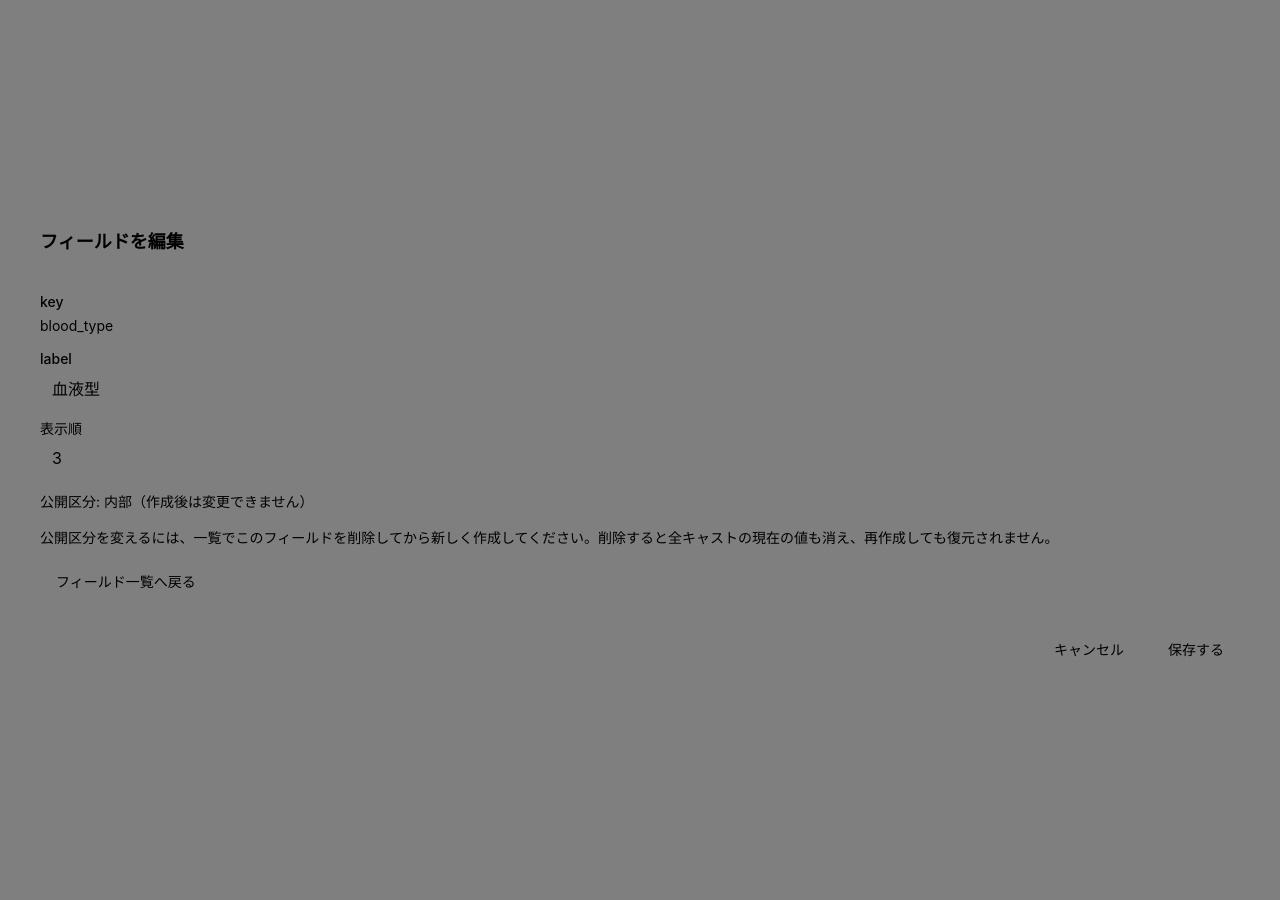
Scenario: カスタムフィールド定義の編集モーダル › 表示順が空なら文言を出し、display_order を欠いたまま送らないこと
Clear the number field labelled "表示順": point(640, 458) [40,440,1240,476]
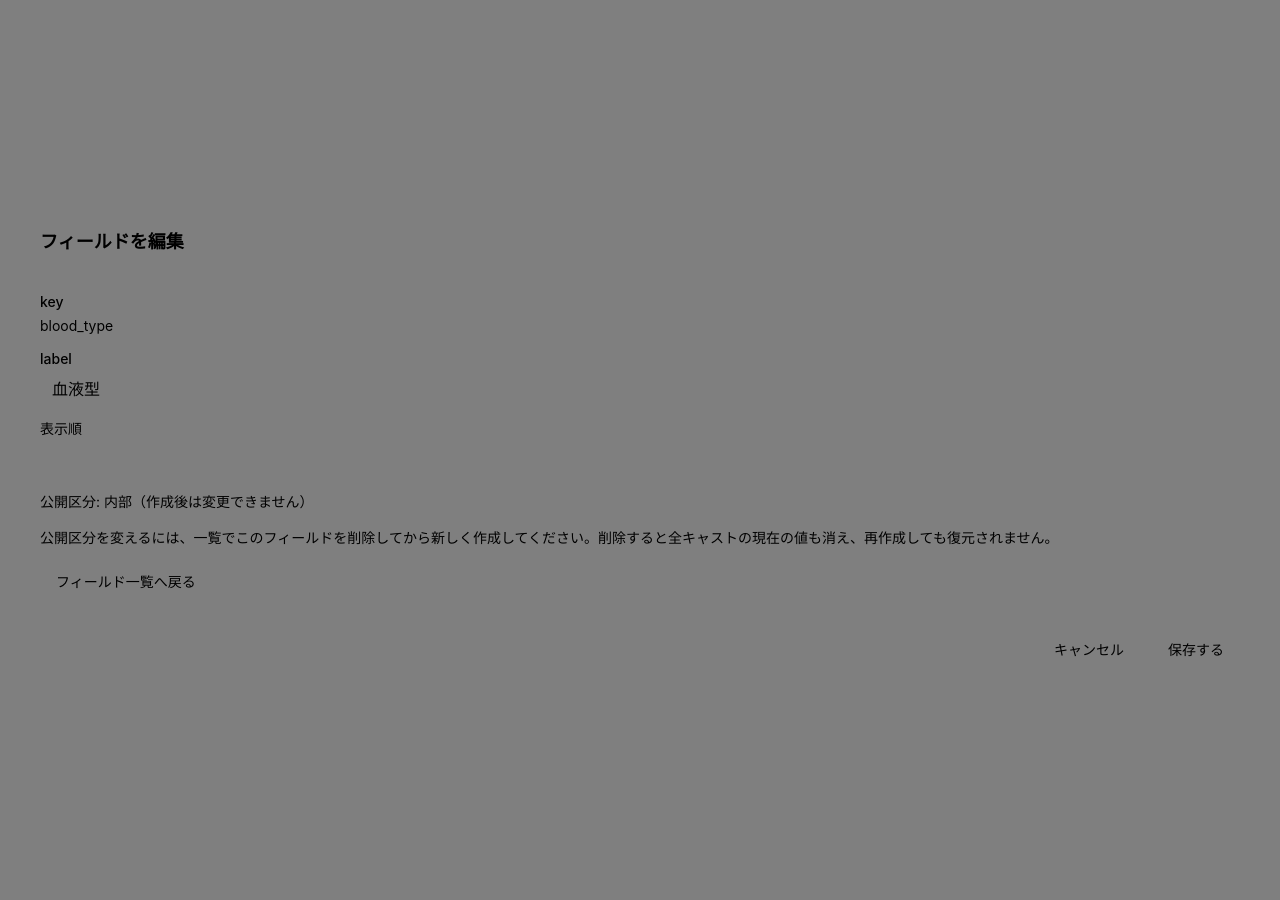
Click the button "保存する": point(1196, 650) [1152,632,1240,668]
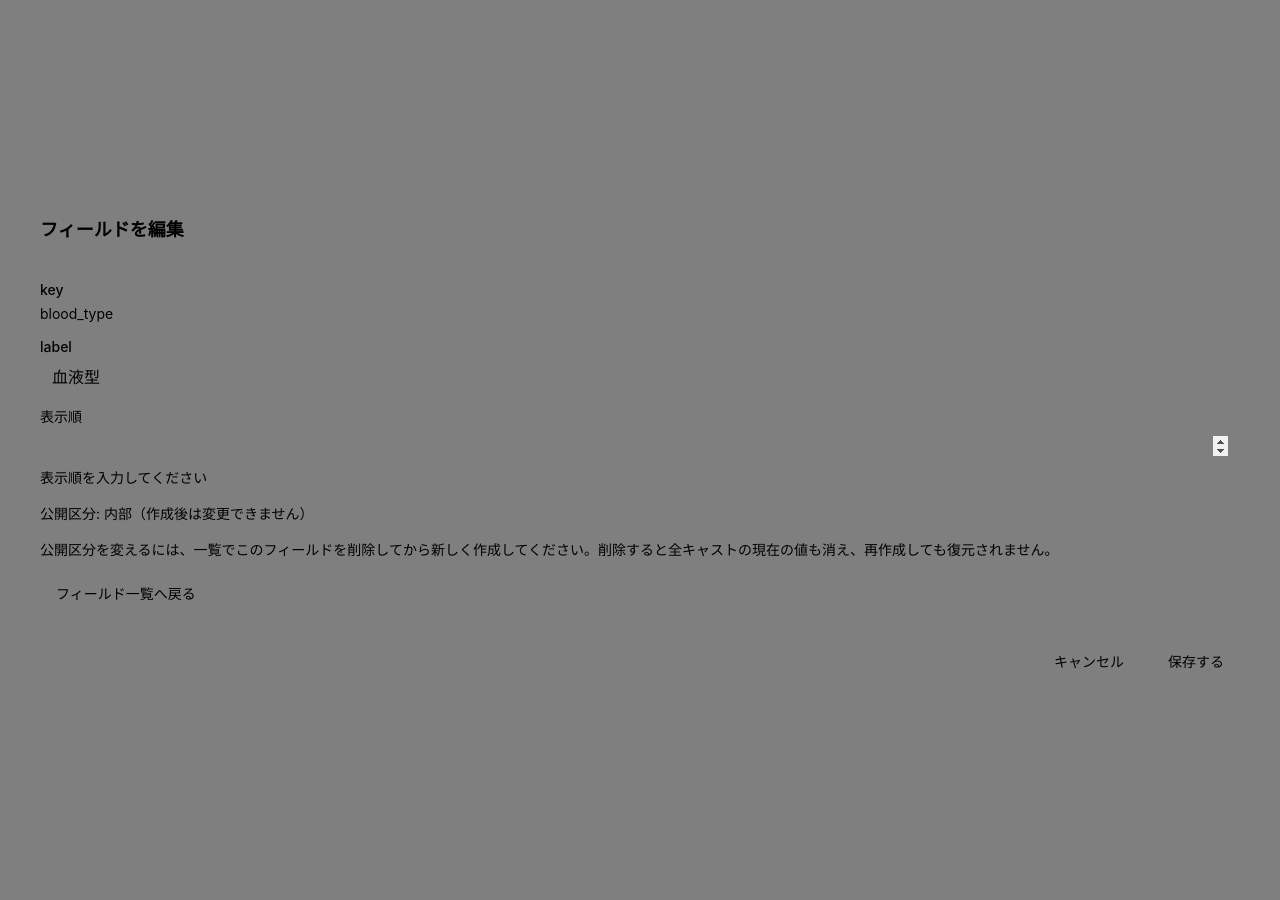
Expected: the text "表示順を入力してください" is shown, [40,469,207,486]
